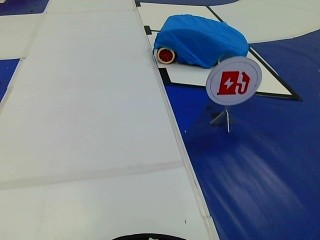battery: (208, 58, 258, 106)
car: (150, 15, 248, 67)
